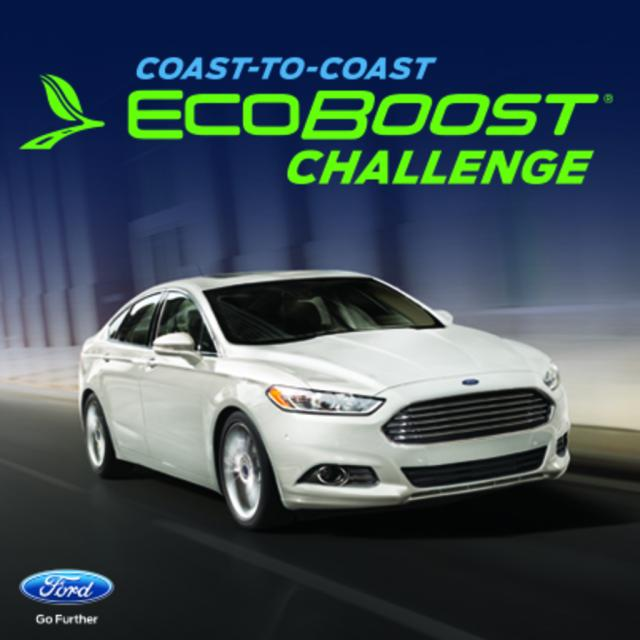car: (72, 260, 566, 530)
